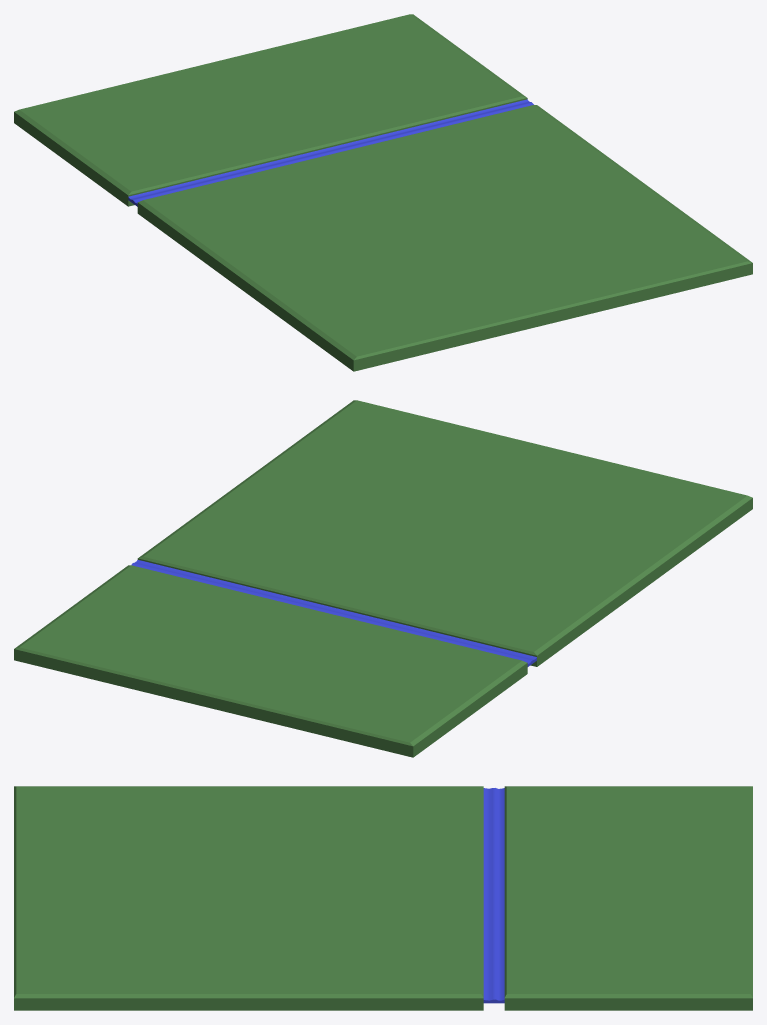
File: Ground (1).fbx
3 renders of one model, top to bottom at view 1: azimuth 30°, elevation 25°; view 2: azimuth 150°, elevation 25°; view 3: azimuth 270°, elevation 25°, orthographic. The views are drawn at different scales.
Parts seen in each view (by area): view 1: Plane.002; view 2: Plane.002; view 3: Plane.002.
Boxes of the visible parts, x1,y1,x2,y2 form: Plane.002: (14,14,752,371); Plane.002: (14,400,752,757); Plane.002: (14,786,752,1010).
Size of the model in its own units: 26435 by 568 by 17939.
